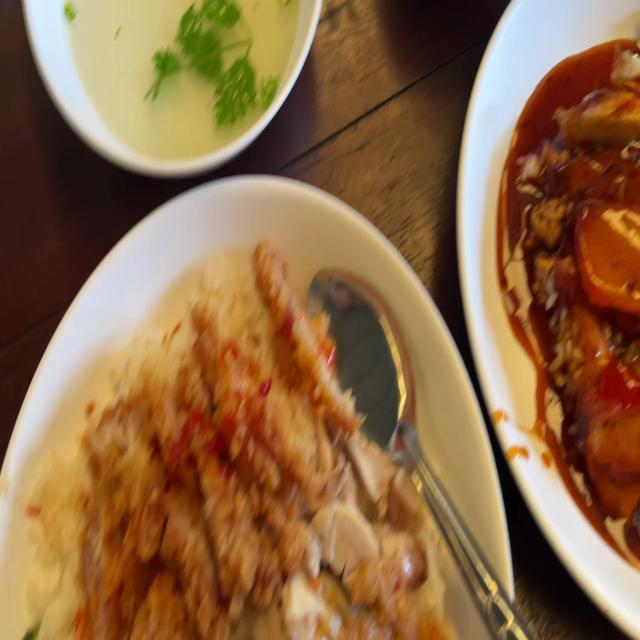01crispy_pork: (551, 45, 640, 142)
01red_pork: (572, 355, 640, 515), (573, 198, 640, 323)
01red_pork_and_crispy_pork: (522, 37, 640, 542)
boiled_chicken: (288, 438, 434, 640)
chicken_rice: (44, 238, 450, 640)
fried_chicken: (62, 238, 352, 640)
